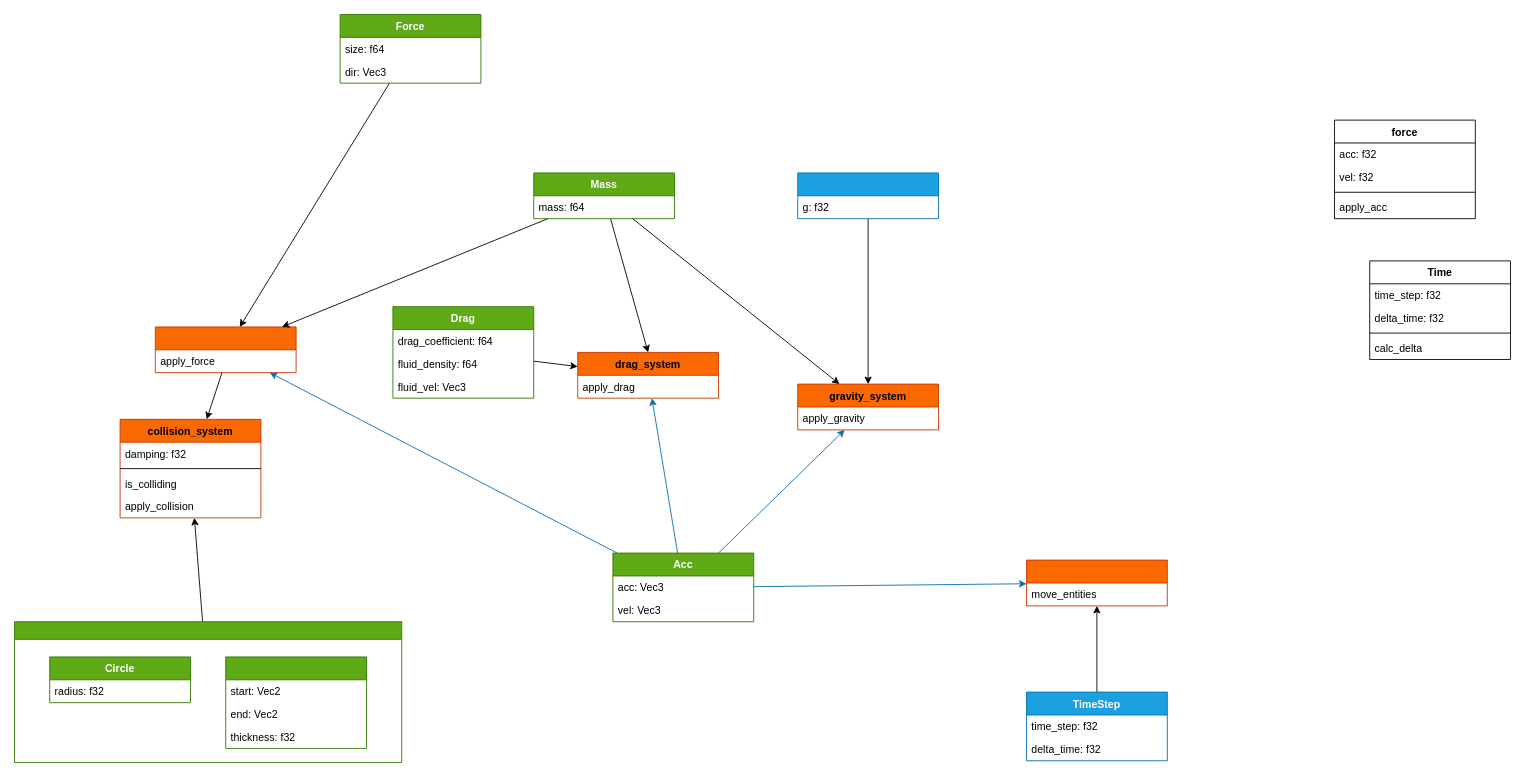
This 1525x777 diagram has some shape labels left out. The shapes that lost their labels are listed below. From the top down, each one's box as (x1, y1, x2, y2) in pixels, then its label:
(797, 172, 939, 219): GravitationalConstant
(154, 326, 296, 373): force_system
(1026, 559, 1167, 606): move_system
(14, 621, 402, 763): Mesh
(225, 656, 367, 748): Line2
